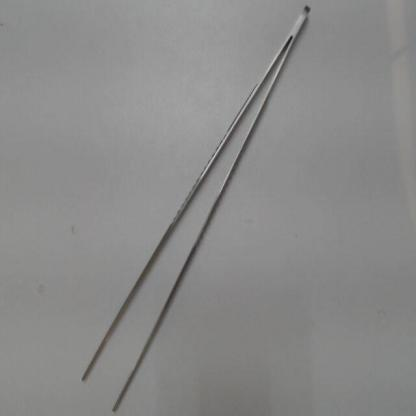DeBakey Dissector: (67, 1, 317, 412)
